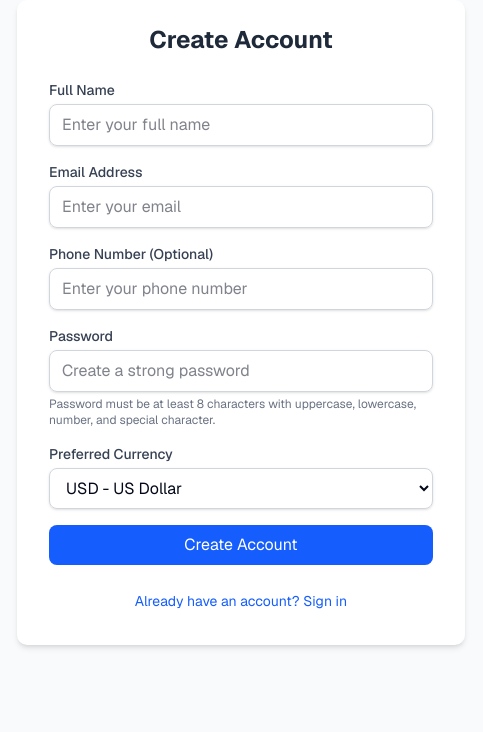
RegisterForm › should display error message on registration failure
This screenshot has width=483, height=732.
Type "John Doe" into the field labelled "Full Name" at (241, 125), box [49,104,433,146]
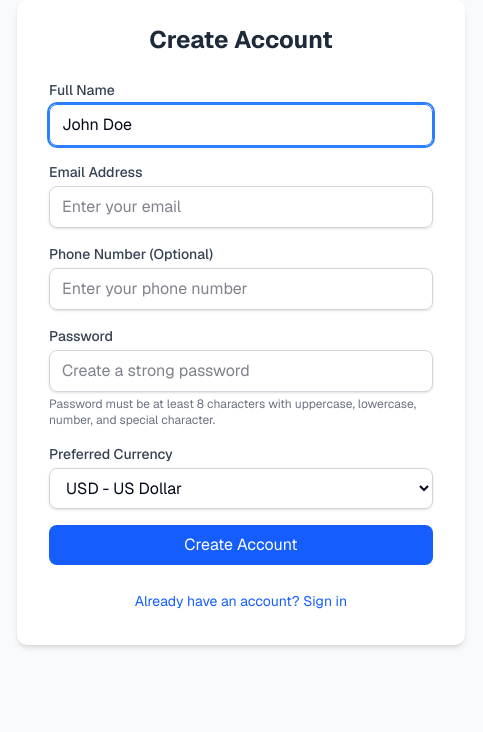
Type "existing@example.com" into the field labelled "Email Address" at (241, 207), box [49,186,433,228]
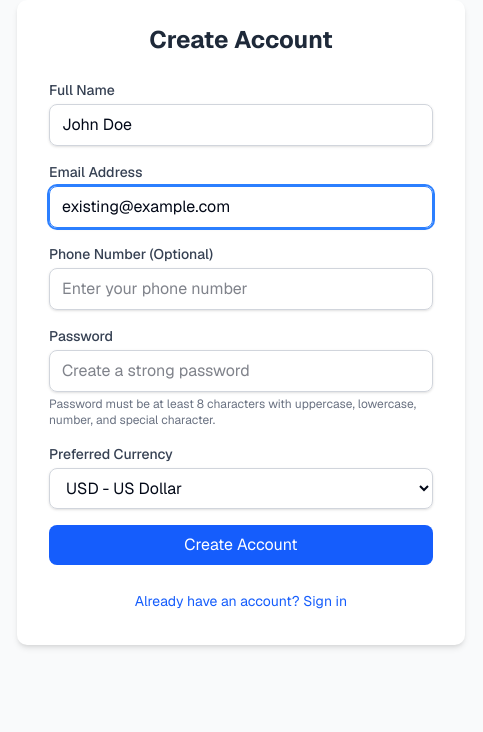
Type "Password123!" into the password field labelled "Password" at (241, 371), box [49,350,433,392]
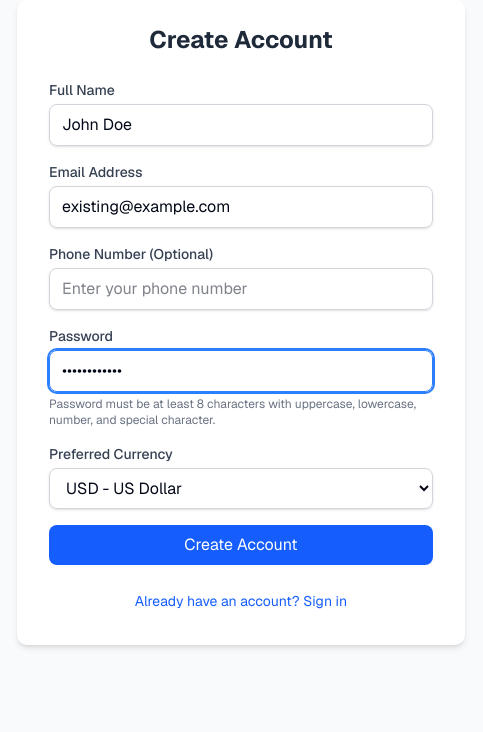
Click the button "Create Account" at (241, 545), box [49,525,433,565]
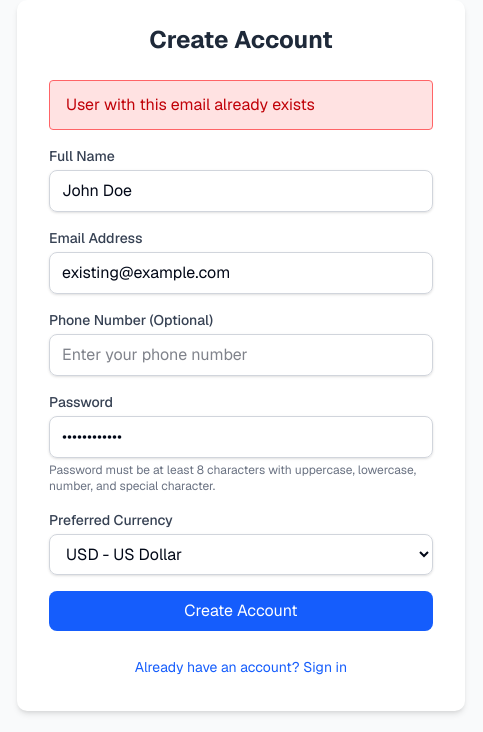
expect the text "User with this email already exists" is shown: met, box [49,80,433,130]
